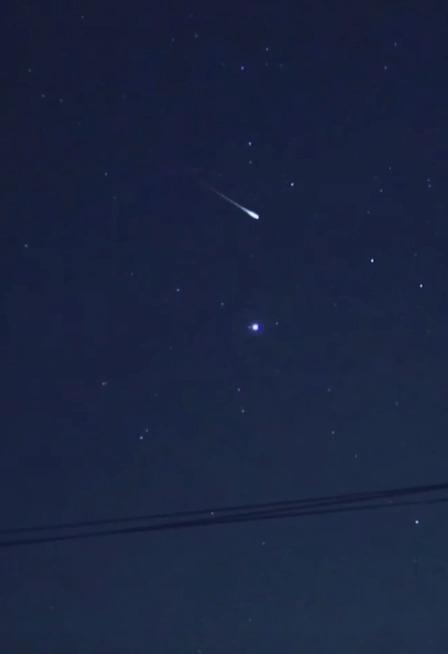meteorite: (193, 172, 273, 231)
